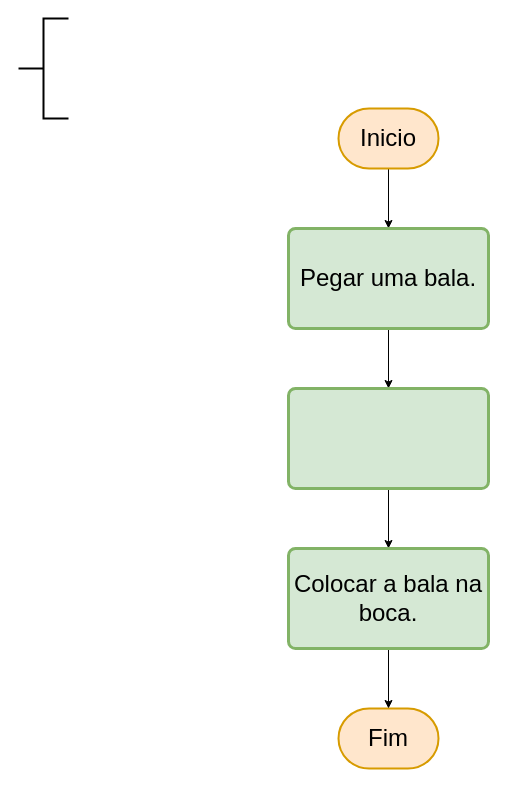
The diagram is 507 pixels wide and 786 high, and some of its shapes have lost their labels. The shapes that lost their labels are listed below. From the top down, each one's box as (x1, y1, x2, y2) in pixels, then its label:
(17, 17, 69, 119): Objetivo: Chupar uma bala.
(286, 386, 490, 490): Tirar a embalagem.
